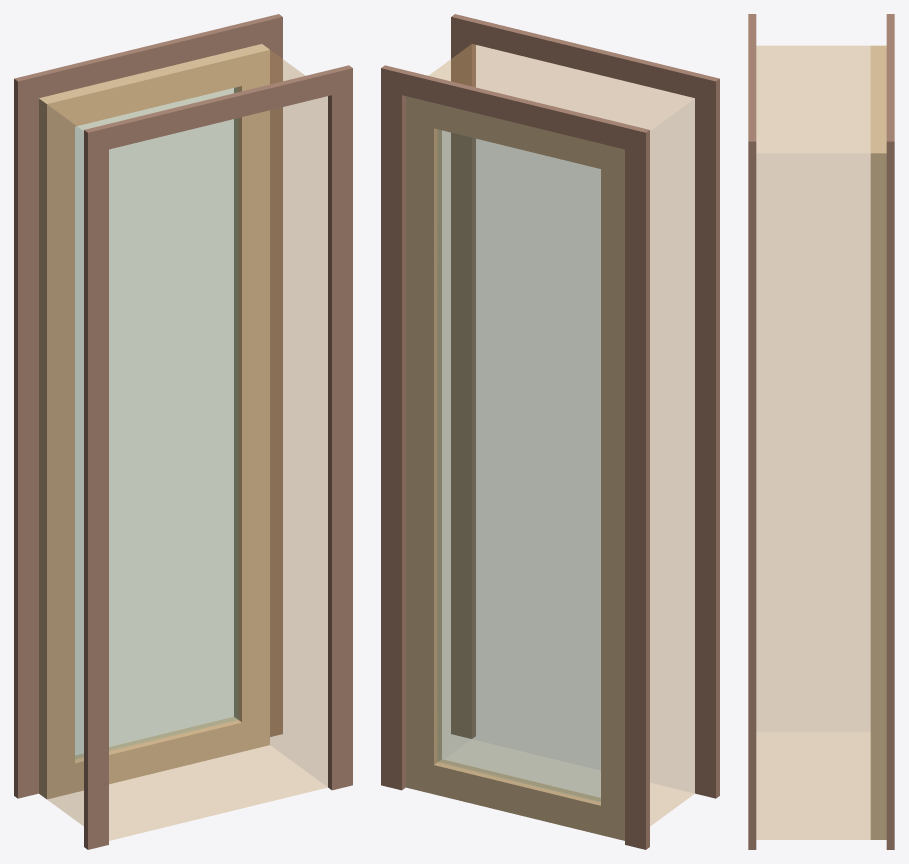
File: door-0813-x-2420mm.glb
The picture shows the model from 3 angles, left to right: view 1: azimuth 30°, elevation 25°; view 2: azimuth 150°, elevation 25°; view 3: azimuth 270°, elevation 25°; orthographic projection.
Visible parts, largest first — view 1: 1xS3BCk291UvhgP2dvN$je, 1s1jVhK8z0pgKYcr9jt781; view 2: 1xS3BCk291UvhgP2dvN$je, 1s1jVhK8z0pgKYcr9jt781; view 3: 1xS3BCk291UvhgP2dvN$je, 1s1jVhK8z0pgKYcr9jt781.
Boxes of the visible parts, x1,y1,x2,y2 form: 1xS3BCk291UvhgP2dvN$je: [47, 50, 327, 840]; 1s1jVhK8z0pgKYcr9jt781: [14, 14, 352, 849]; 1xS3BCk291UvhgP2dvN$je: [429, 44, 694, 825]; 1s1jVhK8z0pgKYcr9jt781: [381, 14, 719, 849]; 1xS3BCk291UvhgP2dvN$je: [756, 46, 870, 839]; 1s1jVhK8z0pgKYcr9jt781: [748, 14, 894, 849].
Size of the model in its own units: 0.965 by 2.5 by 0.467.
